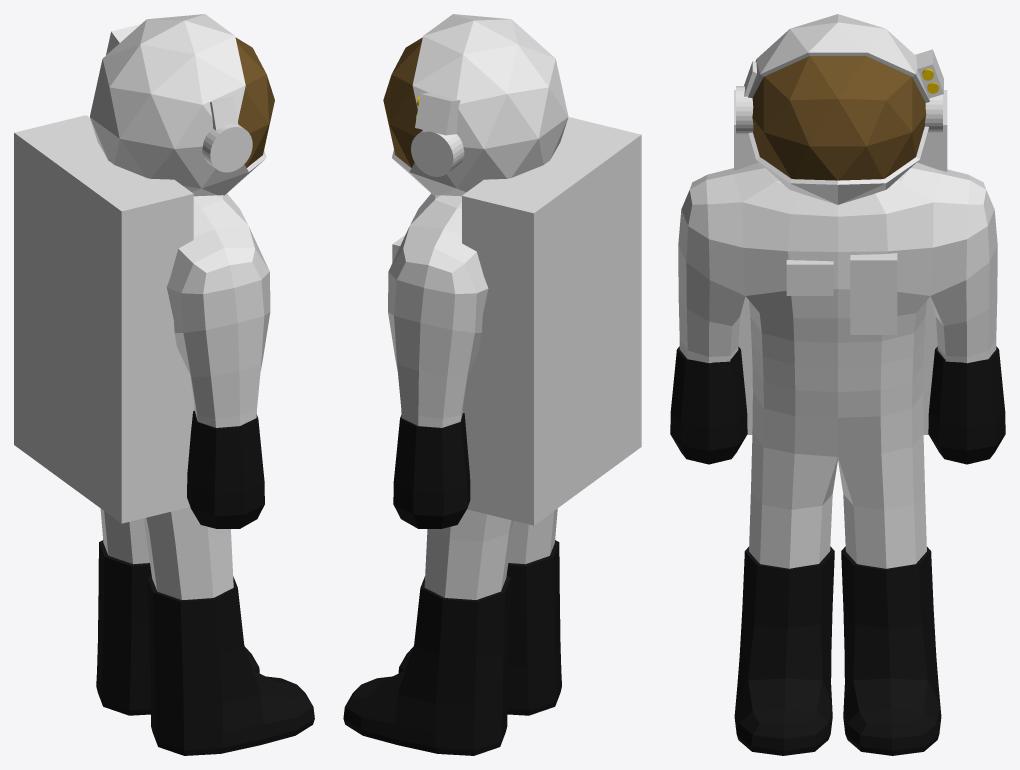
File: AstroMan2.fbx
3 views of the same model, side by side, from view 1: azimuth 30°, elevation 25°; view 2: azimuth 150°, elevation 25°; view 3: azimuth 270°, elevation 25° (orthographic).
Visible parts, largest first — view 1: Icosphere.001; view 2: Icosphere.001; view 3: Icosphere.001.
Part boxes in pixels (box(x1,y1,x2,y2)): Icosphere.001: box(14, 14, 314, 755); Icosphere.001: box(343, 14, 641, 755); Icosphere.001: box(670, 14, 1005, 755).
Size of the model in its own units: 1358 by 4289 by 1888.
